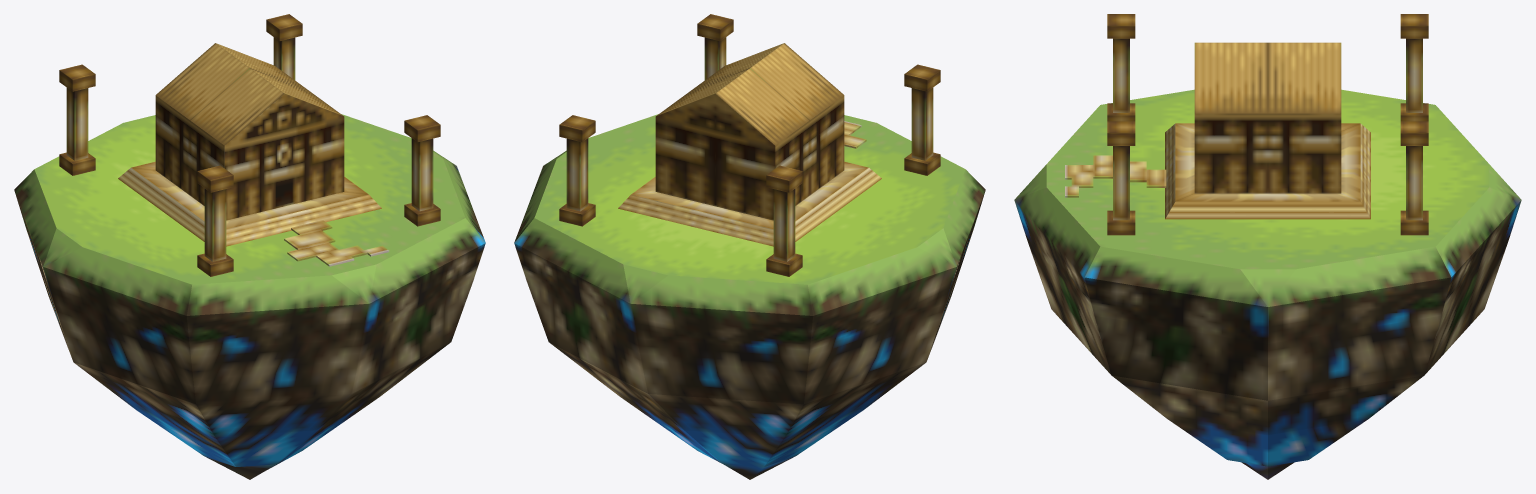
The model's file is Poly_World_Map_Floating_Continent_01_Temple.obj.
3 renders of one model, left to right at view 1: azimuth 30°, elevation 25°; view 2: azimuth 150°, elevation 25°; view 3: azimuth 270°, elevation 25°, orthographic. The views are drawn at different scales.
Visible parts, largest first — view 1: Cube.002_Cube.004, Cube, Cube.001, Cube.002; view 2: Cube.002_Cube.004, Cube, Cube.001; view 3: Cube.002_Cube.004, Cube, Cube.001, Cube.002.
Boxes of the visible parts, box(x1,y1,x2,y2) form: Cube.002_Cube.004: box(14, 114, 485, 479); Cube: box(118, 43, 381, 246); Cube.001: box(59, 14, 440, 276); Cube.002: box(284, 220, 389, 266); Cube.002_Cube.004: box(514, 114, 985, 479); Cube: box(618, 43, 881, 246); Cube.001: box(559, 14, 940, 276); Cube.002_Cube.004: box(1014, 89, 1521, 479); Cube: box(1165, 42, 1370, 219); Cube.001: box(1107, 14, 1428, 235); Cube.002: box(1065, 155, 1166, 197).
Size of the model in its own units: 1.8 by 1.71 by 1.8.
Materials: 1 (1 with a texture image).
